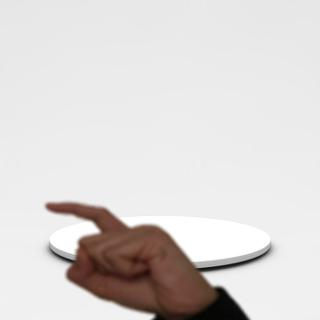WHY: (40, 194, 213, 316)
